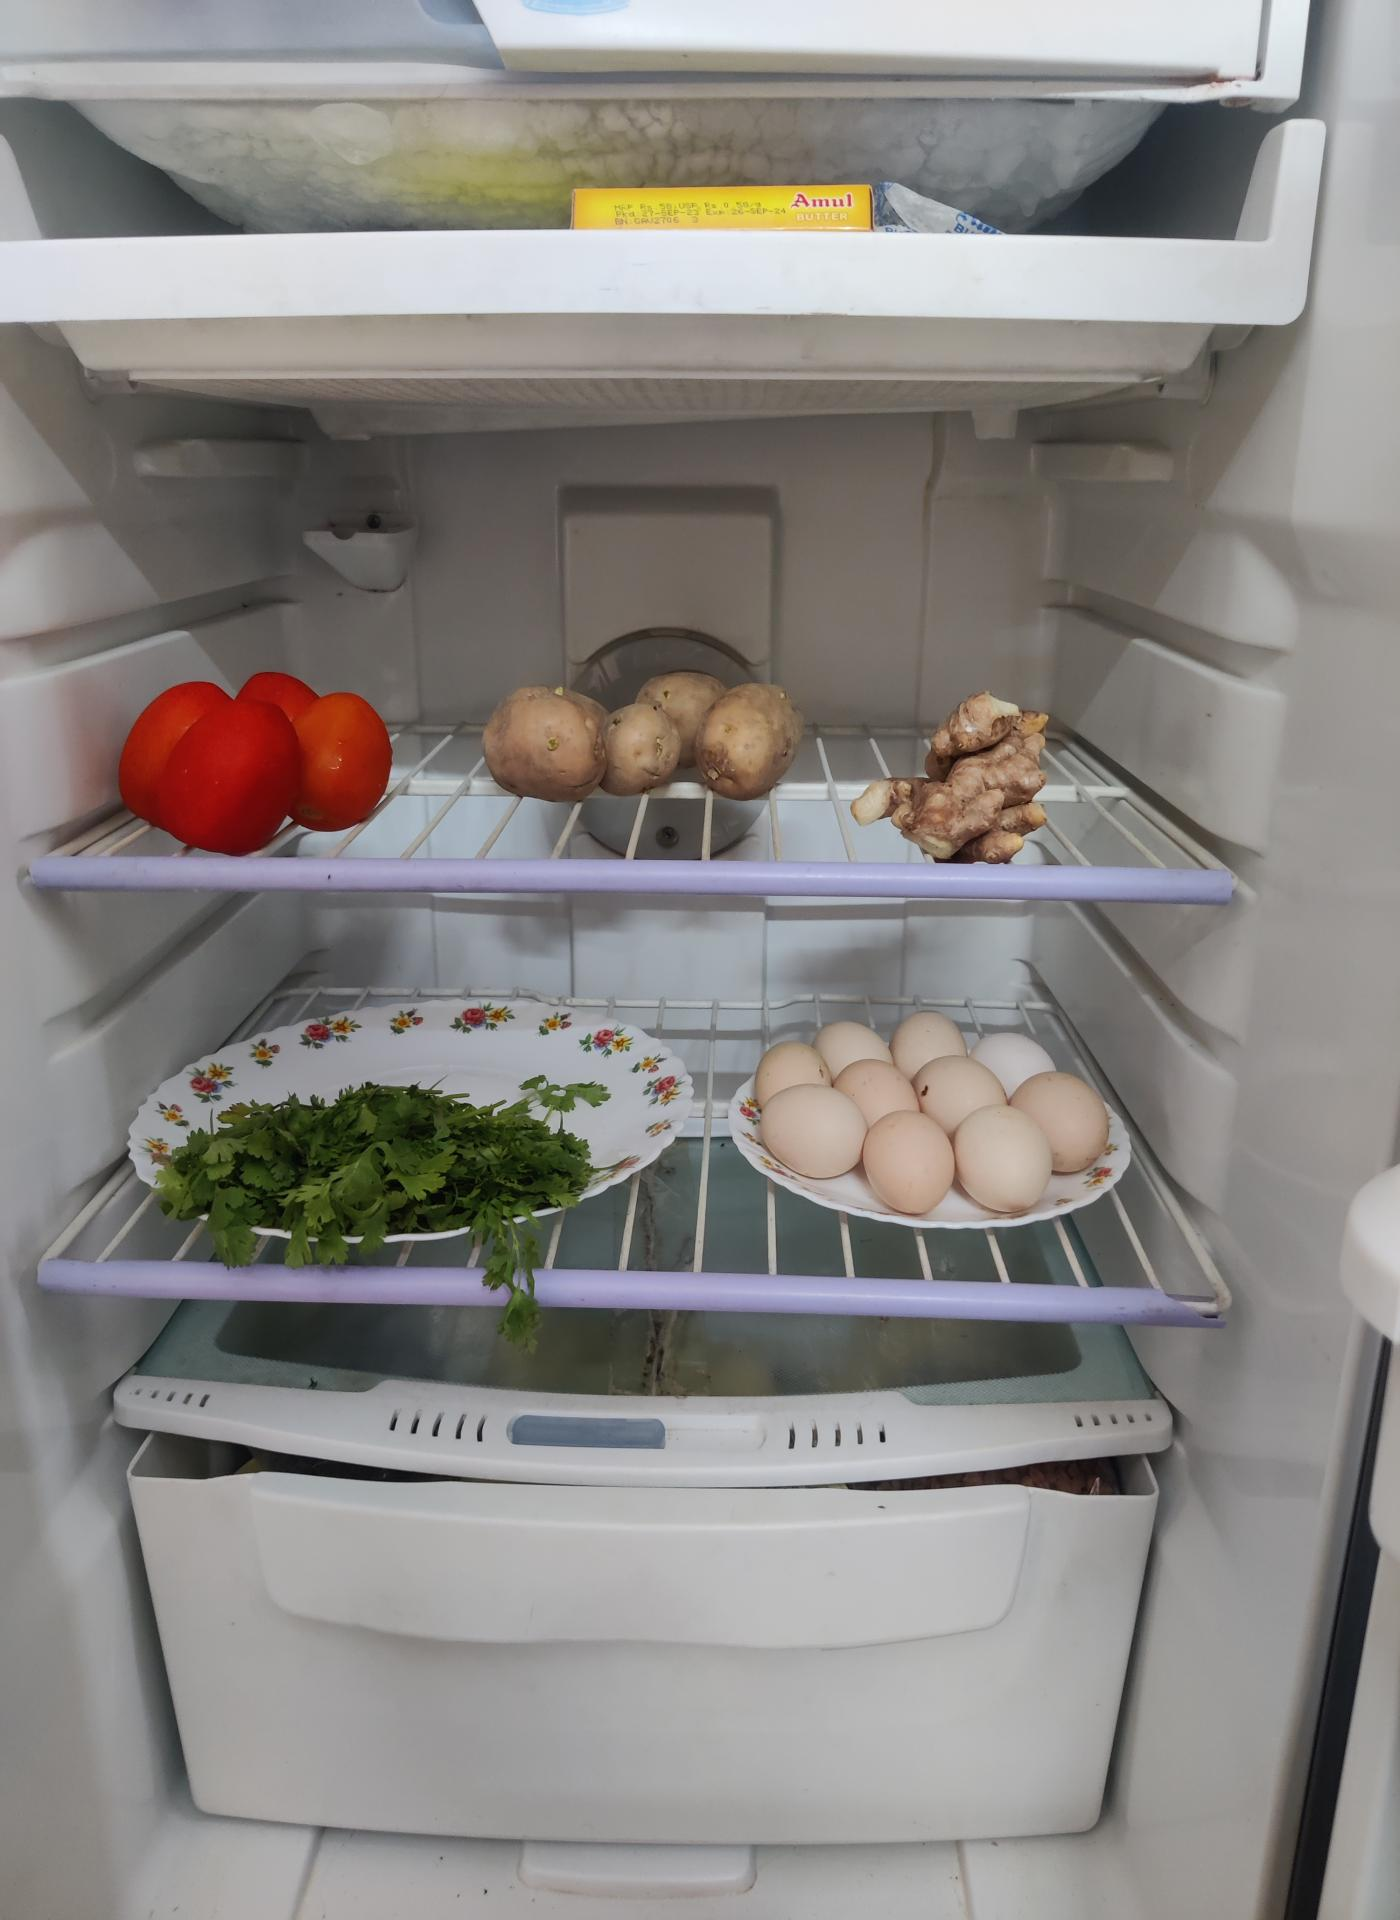coriander: (160, 1090, 596, 1263)
egg: (738, 1015, 1109, 1228)
ginger: (881, 695, 1060, 865)
potato: (483, 665, 810, 798)
tomato: (116, 663, 391, 844)
